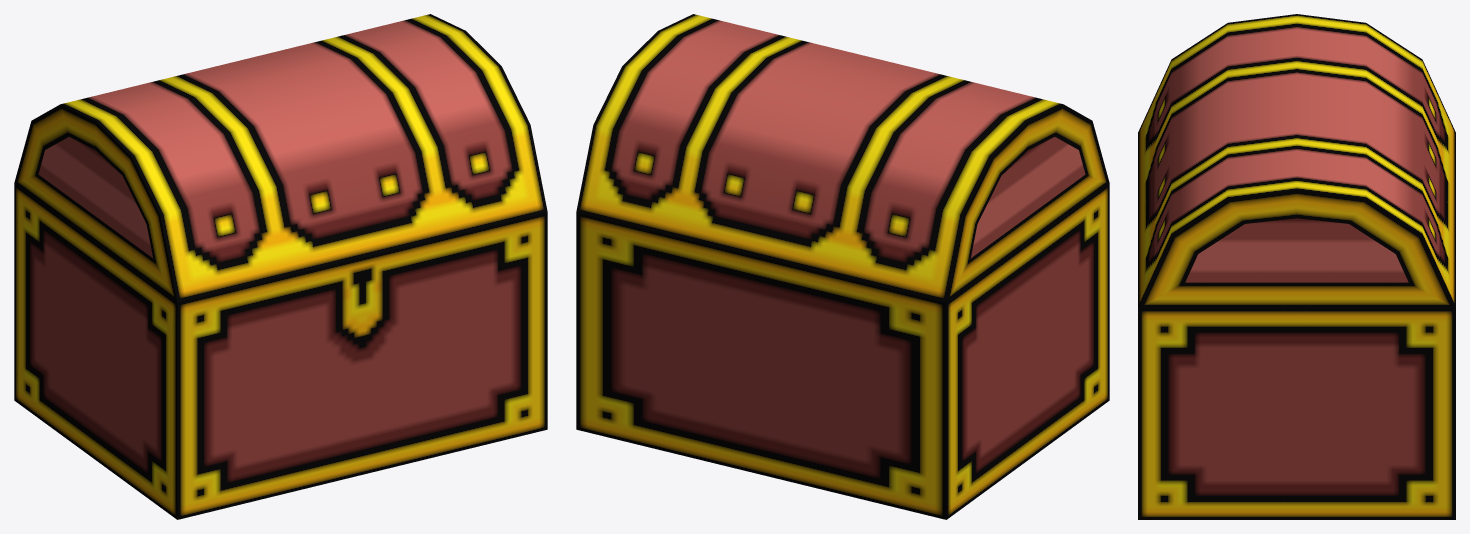
File: deco_chestBig_closed.FBX
The picture shows the model from 3 angles, left to right: view 1: azimuth 30°, elevation 25°; view 2: azimuth 150°, elevation 25°; view 3: azimuth 270°, elevation 25°; orthographic projection. The views are drawn at different scales.
Visible parts, largest first — view 1: deco_chestBig_closed; view 2: deco_chestBig_closed; view 3: deco_chestBig_closed.
Boxes of the visible parts, bbox=[...] form: deco_chestBig_closed: bbox=[14, 14, 547, 519]; deco_chestBig_closed: bbox=[576, 14, 1109, 519]; deco_chestBig_closed: bbox=[1138, 14, 1455, 519].
Bounding box in the file's own units: 2.02 × 1.76 × 1.54.
Materials: 1 (1 with a texture image).
